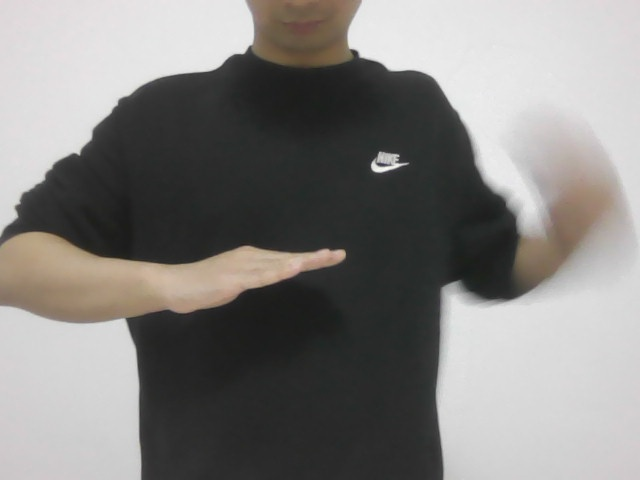safe: (169, 233, 357, 331)
